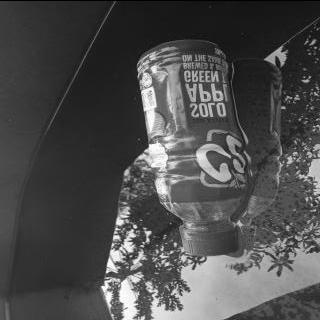bottle: (135, 36, 249, 258)
